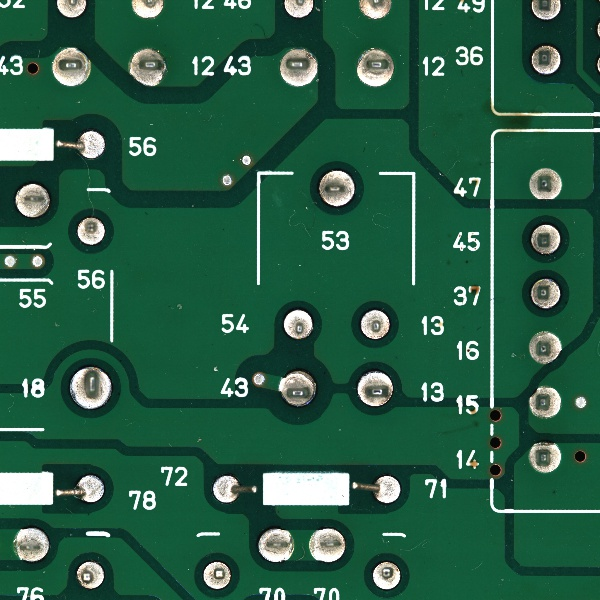Circle: (66, 364, 120, 415), (123, 41, 172, 93), (355, 366, 401, 415), (351, 43, 397, 91), (48, 43, 94, 89), (276, 365, 319, 414), (276, 45, 321, 90), (316, 166, 357, 212), (523, 325, 567, 367), (306, 526, 350, 568), (523, 381, 566, 423), (69, 468, 111, 511), (11, 524, 54, 566), (254, 523, 297, 565), (522, 164, 568, 202), (527, 272, 567, 314), (525, 438, 566, 478), (279, 304, 318, 345), (13, 180, 51, 222), (525, 217, 563, 258), (367, 471, 408, 508), (356, 304, 394, 343), (196, 556, 238, 590), (527, 43, 563, 82), (71, 127, 108, 164), (365, 558, 403, 594), (208, 472, 243, 510), (71, 559, 112, 590), (75, 215, 108, 249)
